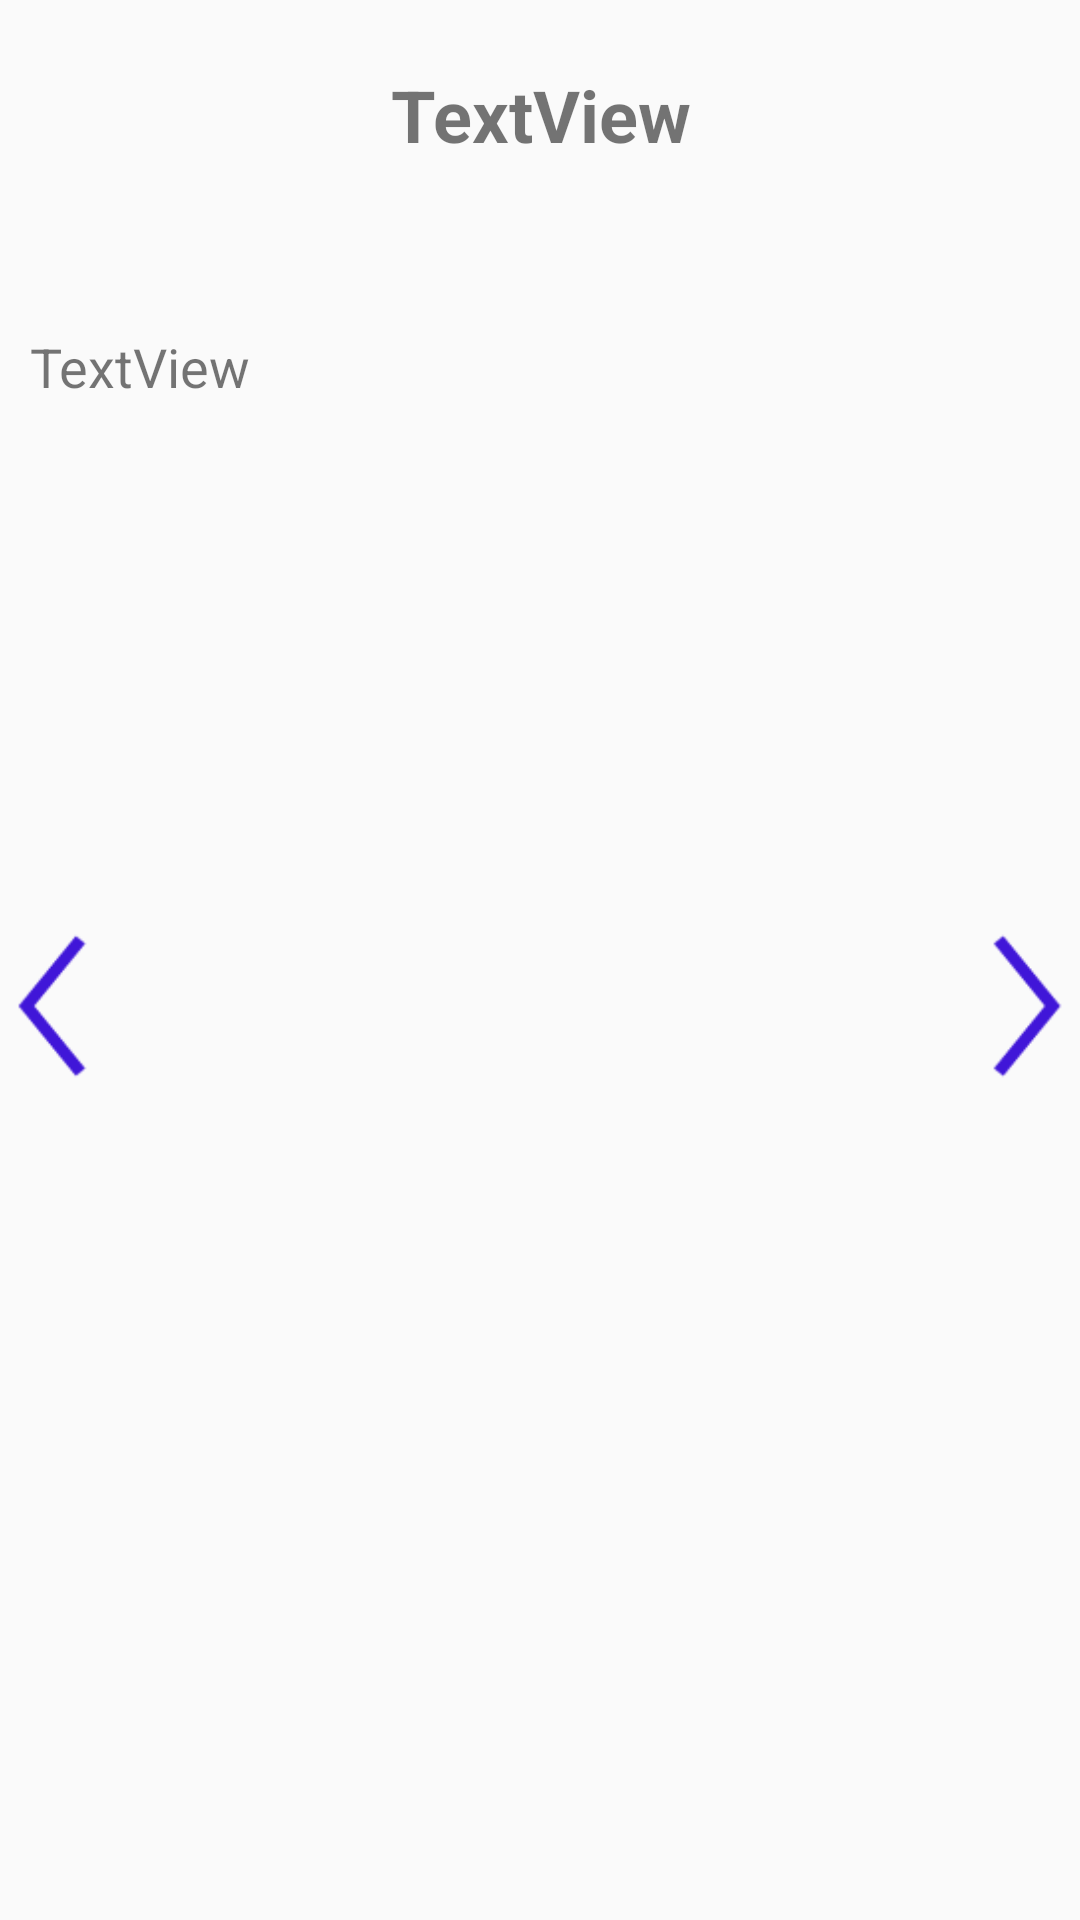

Screen size 1080x1920. Icon name, then its box in pixels as (x1, y1, x2, y2):
back focus: (18, 936, 86, 1076)
next focus: (993, 935, 1061, 1077)
